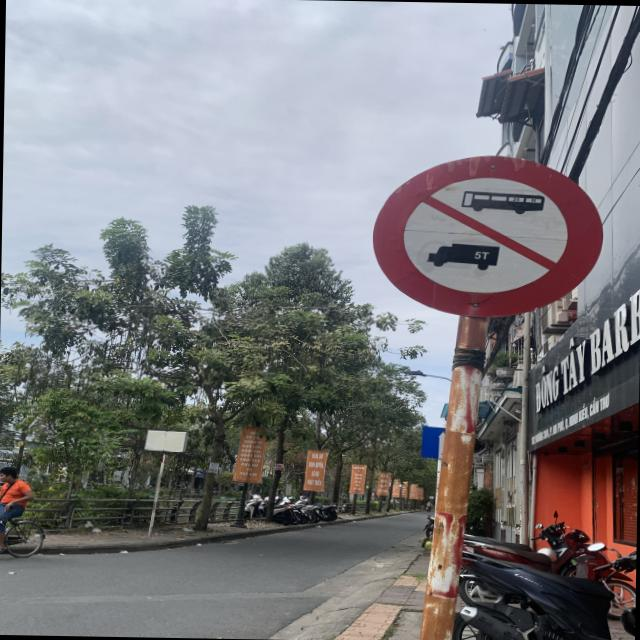Cam_XeTai_XeKhach: (369, 150, 609, 322)
